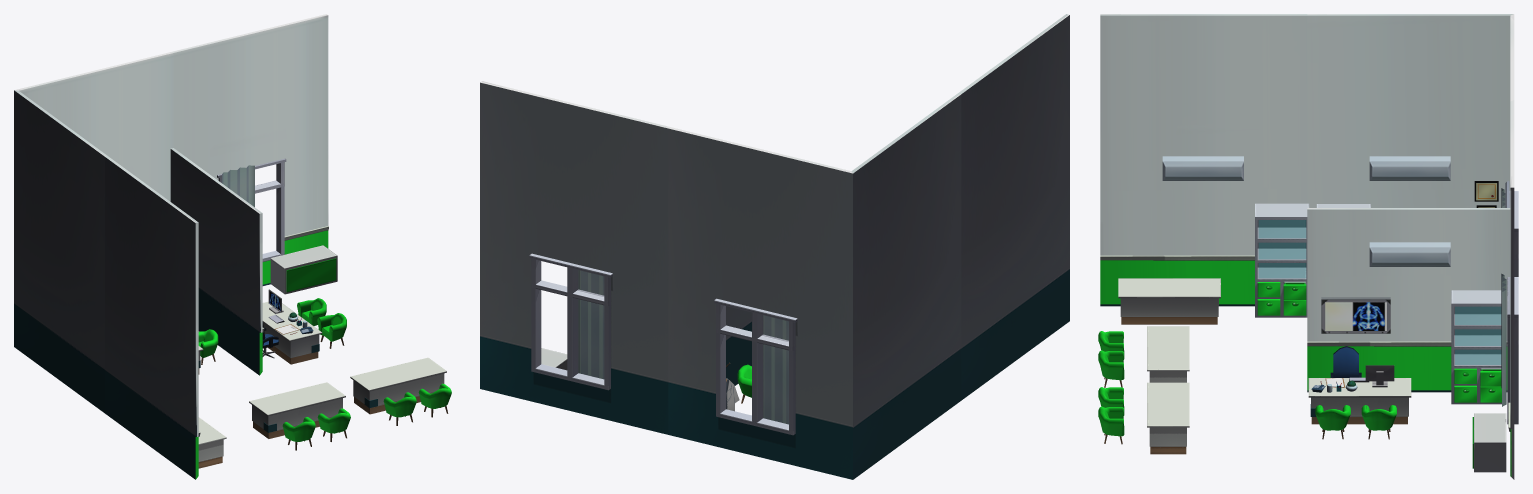
File: medical_test.fbx
3 views of the same model, side by side, from view 1: azimuth 30°, elevation 25°; view 2: azimuth 150°, elevation 25°; view 3: azimuth 270°, elevation 25° (orthographic). The views are drawn at different scales.
Visible parts, largest first — view 1: wall_prop, polySurface335, wall1, table_03, table_04, table_02, sofa_005, sofa_003, sofa_004, table_01, curtain, prop_002; view 2: polySurface335, wall_prop, wall1, prop_002, curtain; view 3: wall1, polySurface335, wall_prop, polySurface333, polySurface336, table_01, table_02, table_03, polySurface334, table_04, sofa_005, sofa_004 (+9 smaller).
Part boxes in pixels (x1=…): wall_prop: x1=169, y1=14, x2=337, y2=375; polySurface335: x1=14, y1=52, x2=203, y2=413; wall1: x1=105, y1=156, x2=200, y2=479; table_03: x1=350, y1=357, x2=446, y2=414; table_04: x1=249, y1=382, x2=345, y2=438; table_02: x1=262, y1=301, x2=322, y2=364; sofa_005: x1=297, y1=298, x2=346, y2=348; sofa_003: x1=282, y1=408, x2=350, y2=450; sofa_004: x1=383, y1=383, x2=451, y2=425; table_01: x1=198, y1=417, x2=226, y2=468; curtain: x1=222, y1=165, x2=254, y2=207; prop_002: x1=198, y1=329, x2=218, y2=364; polySurface335: x1=665, y1=93, x2=961, y2=479; wall_prop: x1=480, y1=81, x2=751, y2=434; wall1: x1=958, y1=14, x2=1069, y2=400; prop_002: x1=737, y1=315, x2=788, y2=424; curtain: x1=578, y1=270, x2=604, y2=379; wall1: x1=1100, y1=14, x2=1307, y2=306; polySurface335: x1=1307, y1=14, x2=1518, y2=276; wall_prop: x1=1307, y1=100, x2=1518, y2=479; polySurface333: x1=1255, y1=203, x2=1309, y2=317; polySurface336: x1=1451, y1=290, x2=1501, y2=404; table_01: x1=1118, y1=278, x2=1220, y2=324; table_02: x1=1308, y1=378, x2=1411, y2=424; table_03: x1=1147, y1=382, x2=1189, y2=454; polySurface334: x1=1321, y1=297, x2=1390, y2=333; table_04: x1=1147, y1=326, x2=1189, y2=382; sofa_005: x1=1315, y1=405, x2=1396, y2=439; sofa_004: x1=1098, y1=387, x2=1124, y2=444.
Size of what is drawn, in the model's own units: 45.06 by 35.38 by 46.1.
